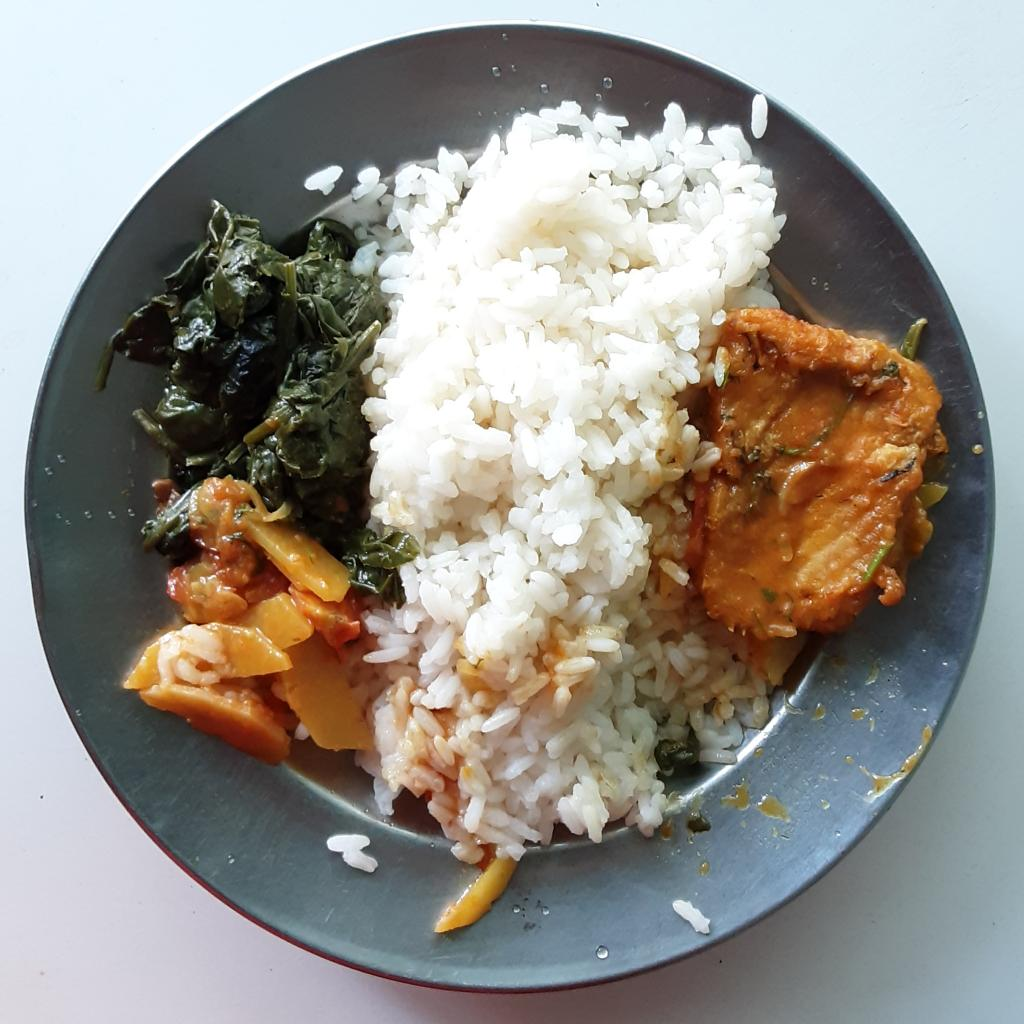fish: (696, 308, 950, 639)
potato: (113, 473, 366, 771)
rice: (302, 88, 791, 871)
shak: (98, 200, 420, 601)
